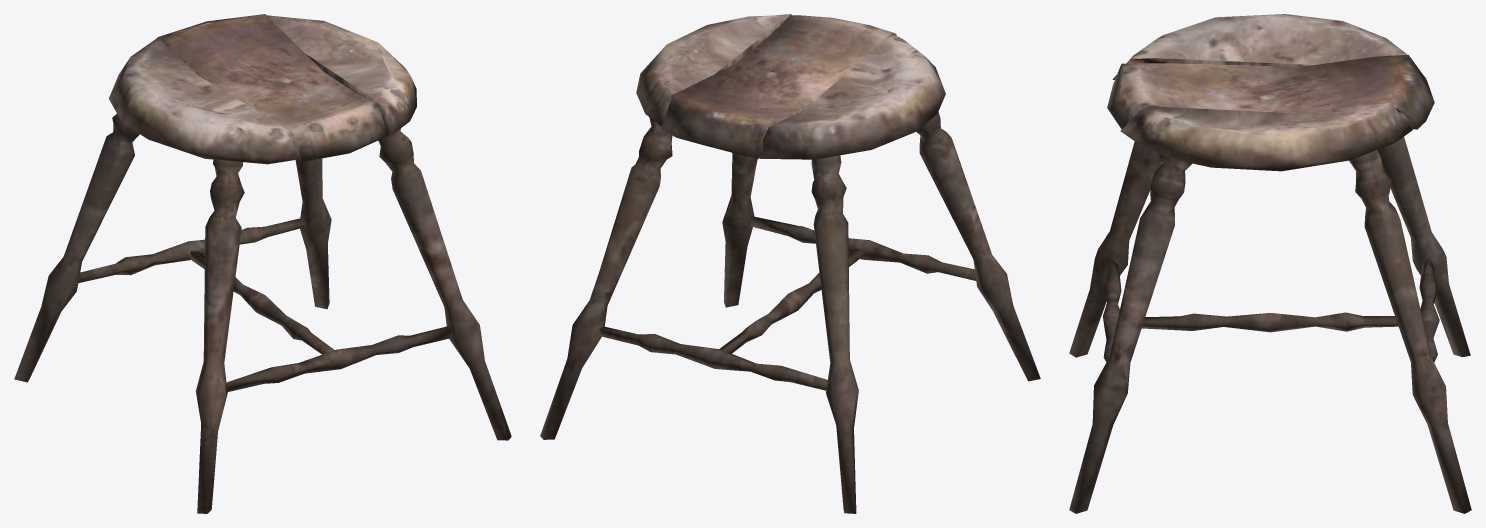
Rendered from yardprop_wooden_stool_01.glb.
3 renders of one model, left to right at view 1: azimuth 30°, elevation 25°; view 2: azimuth 150°, elevation 25°; view 3: azimuth 270°, elevation 25°, orthographic. The views are drawn at different scales.
Visible parts, largest first — view 1: wooden_stool_01; view 2: wooden_stool_01; view 3: wooden_stool_01.
Part boxes in pixels (x1,y1,x2,y2): wooden_stool_01: (14,14,511,513); wooden_stool_01: (540,14,1040,513); wooden_stool_01: (1069,14,1471,513).
Bounding box in the file's own units: 0.4266 × 0.4383 × 0.4434.
1 material, 1 textured.
